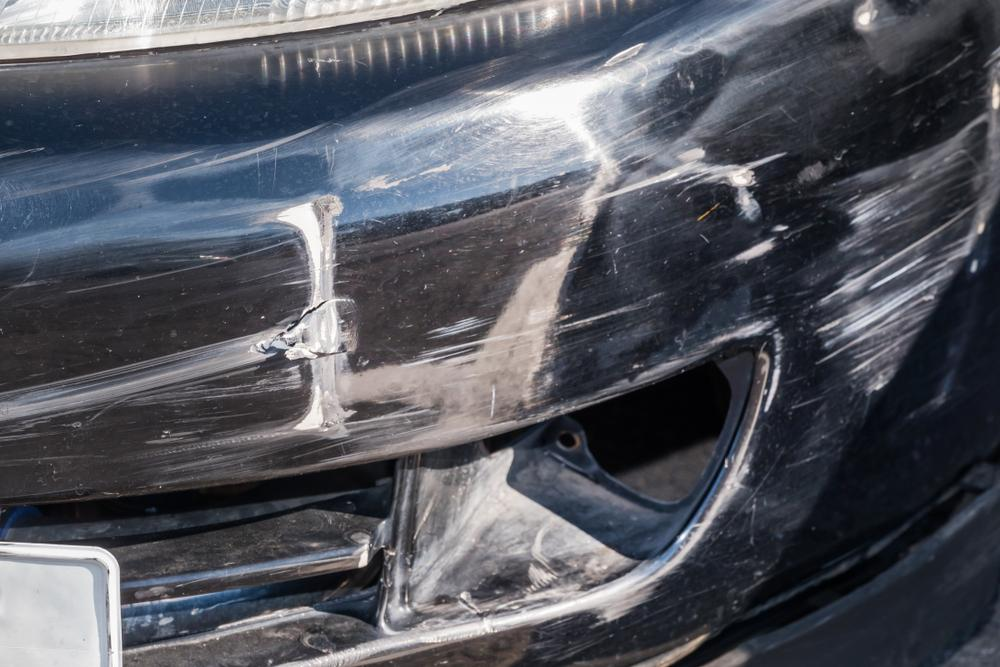scratch: (0, 25, 1000, 621)
